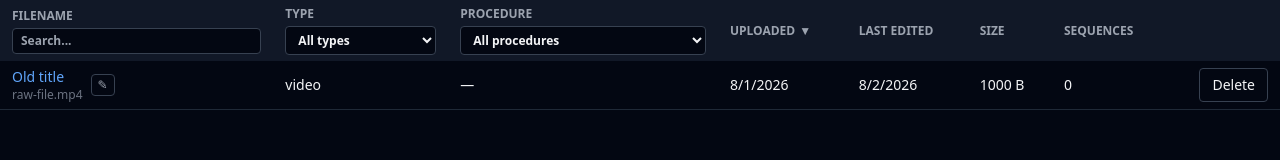
Test: MediaLibraryTable › cancels the edit on Escape without sending a request
Check: the text "Old title" is shown, box [12,67,64,86]
Step 1. Click the button named "rename \"Old title\"" → point(103, 85), box [90,74,115,96]
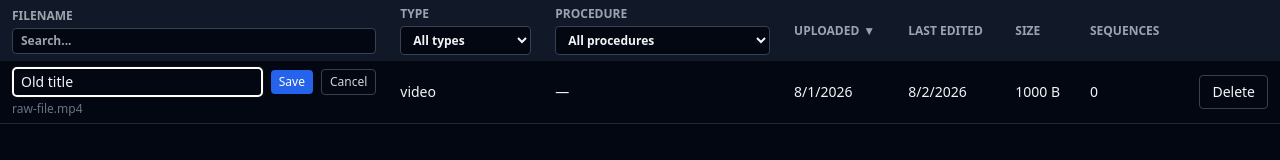
Step 2. Type "scrapped" into the field named "name" → point(137, 82), box [12,67,263,97]
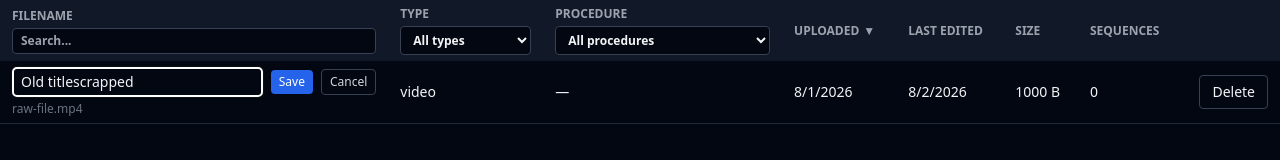
Step 3. Press Escape
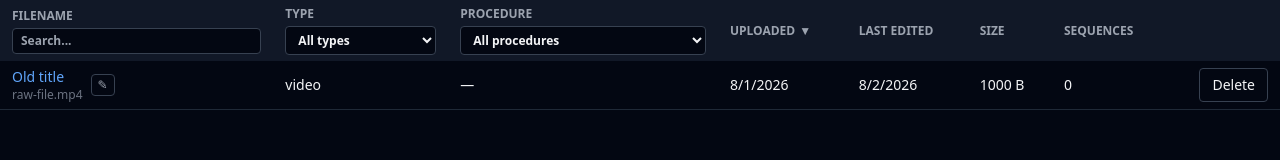
Check: the text "Old title" is shown, box [12,67,64,86]
